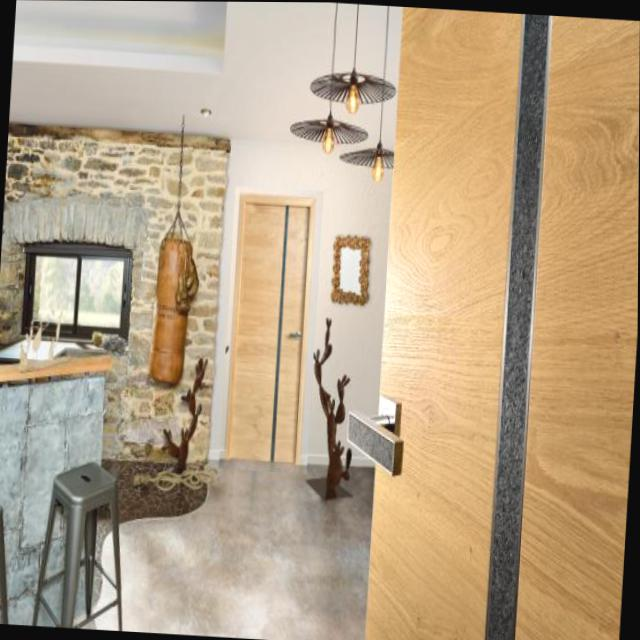close: (219, 186, 325, 474)
